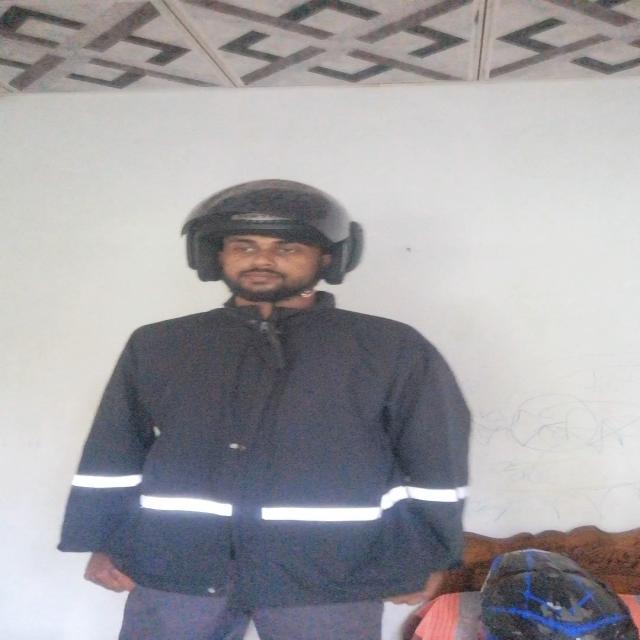Helmet_Wearer: (168, 178, 364, 319)
Jacket_Wearer: (90, 312, 495, 599)
Person: (98, 169, 477, 640)
